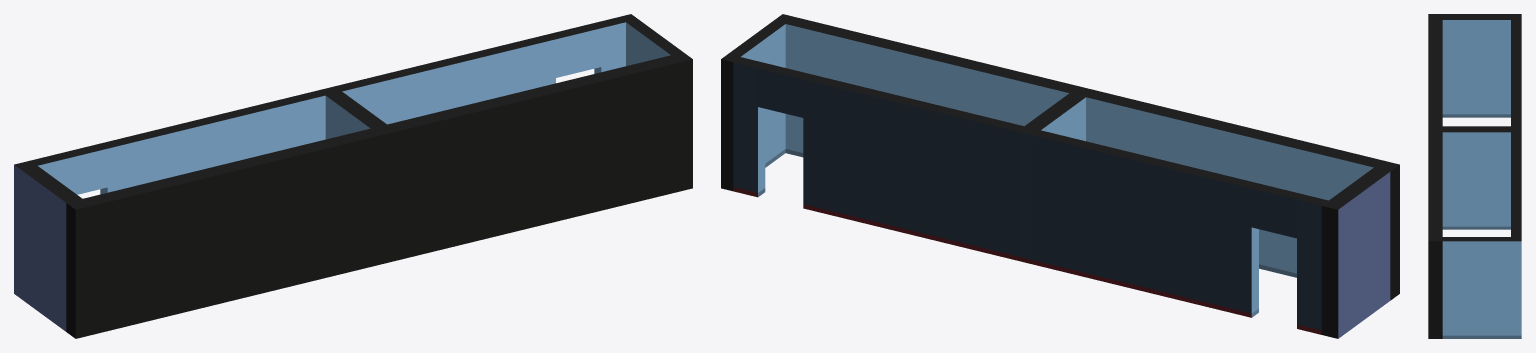
File: __office_bathroom.fbx
The picture shows the model from 3 angles, left to right: view 1: azimuth 30°, elevation 25°; view 2: azimuth 150°, elevation 25°; view 3: azimuth 270°, elevation 25°; orthographic projection. The views are drawn at different scales.
Parts seen in each view (by area): view 1: Cube.014, Cube.007, Cube.006, Cube.012, Cube.009, Cube.011, Cube.005, Cube.008; view 2: Cube.014, Cube.007, Cube.006, Cube.012, Cube.011, Cube.005, Cube.009, Cube.008; view 3: Cube.011, Cube.009, Cube.012, Cube.014, Cube.007, Cube.006, Cube.005, Cube.008.
Part boxes in pixels (box(x1,y1,x2,y2)): Cube.014: box(66, 52, 692, 338); Cube.007: box(55, 90, 325, 194); Cube.006: box(335, 23, 601, 124); Cube.012: box(14, 160, 82, 331); Cube.009: box(319, 86, 386, 139); Cube.011: box(619, 14, 682, 65); Cube.005: box(594, 17, 625, 73); Cube.008: box(30, 154, 62, 183); Cube.014: box(773, 14, 1399, 300); Cube.007: box(1033, 130, 1303, 317); Cube.006: box(758, 63, 1023, 260); Cube.012: box(1321, 167, 1390, 338); Cube.011: box(721, 21, 785, 191); Cube.005: box(733, 57, 765, 197); Cube.009: box(1017, 93, 1085, 264); Cube.008: box(1297, 194, 1328, 334); Cube.011: box(1442, 237, 1521, 338); Cube.009: box(1442, 126, 1521, 229); Cube.012: box(1442, 14, 1521, 117); Cube.014: box(1428, 14, 1442, 338); Cube.007: box(1511, 29, 1521, 126); Cube.006: box(1511, 132, 1521, 227); Cube.005: box(1511, 227, 1521, 236); Cube.008: box(1511, 20, 1521, 28).
Size of the model in its own units: 15 by 2.6 by 3.
